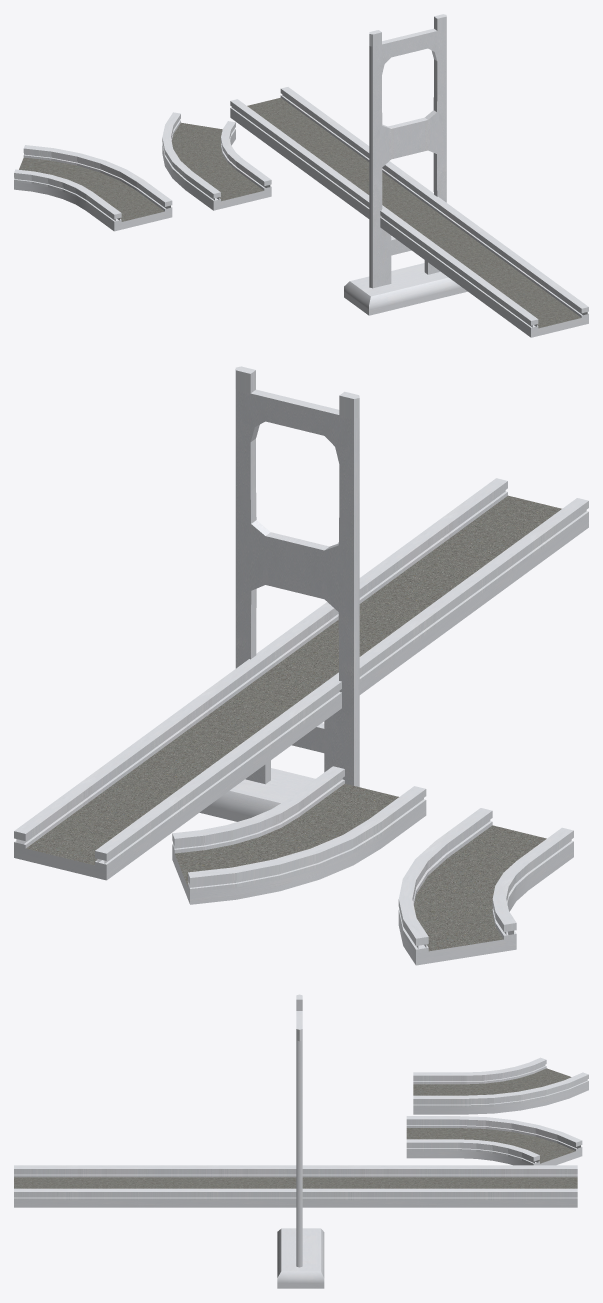
The model's file is Bridge.fbx.
The picture shows the model from 3 angles, top to bottom: view 1: azimuth 30°, elevation 25°; view 2: azimuth 150°, elevation 25°; view 3: azimuth 270°, elevation 25°; orthographic projection. The views are drawn at different scales.
Parts seen in each view (by area): view 1: Box003, Box008, Box007, Box004, Box001, Box005, Box002, Box006; view 2: Box003, Box007, Box008, Box005, Box004, Box002, Box001, Box006; view 3: Box007, Box008, Box001, Box005, Box004, Box002, Box006, Box003.
Boxes of the visible parts, <box> form: Box003: <box>369,14,446,288</box>; Box008: <box>14,145,172,231</box>; Box007: <box>162,112,271,210</box>; Box004: <box>455,252,588,337</box>; Box001: <box>380,197,512,282</box>; Box005: <box>230,87,362,171</box>; Box002: <box>305,142,437,218</box>; Box006: <box>344,263,467,315</box>; Box003: <box>235,366,359,786</box>; Box007: <box>172,766,426,904</box>; Box008: <box>398,808,573,965</box>; Box005: <box>14,742,227,880</box>; Box004: <box>376,478,588,615</box>; Box002: <box>135,655,341,791</box>; Box001: <box>256,566,468,694</box>; Box006: <box>199,768,315,821</box>; Box007: <box>406,1116,582,1165</box>; Box008: <box>413,1057,588,1114</box>; Box001: <box>155,1165,296,1207</box>; Box005: <box>436,1165,577,1207</box>; Box004: <box>14,1165,155,1207</box>; Box002: <box>302,1165,437,1207</box>; Box006: <box>277,1228,324,1288</box>; Box003: <box>296,994,302,1267</box>.
Size of the model in its own units: 109 by 88.96 by 183.
2 materials, 2 textured.
